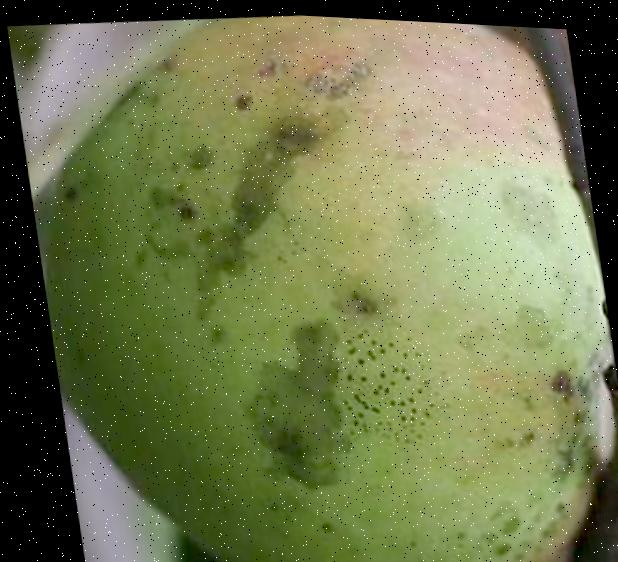BLOTCH: (4, 0, 618, 562)
